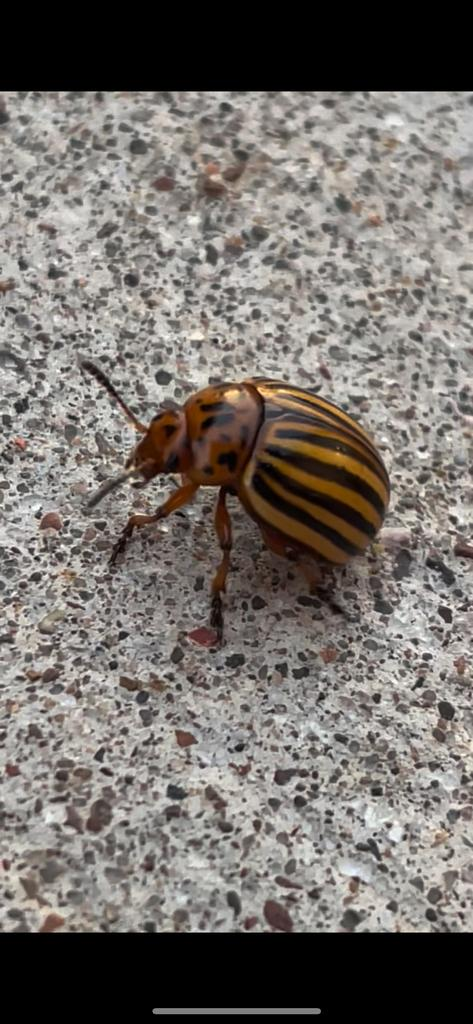potato_beetle: (23, 290, 464, 682)
